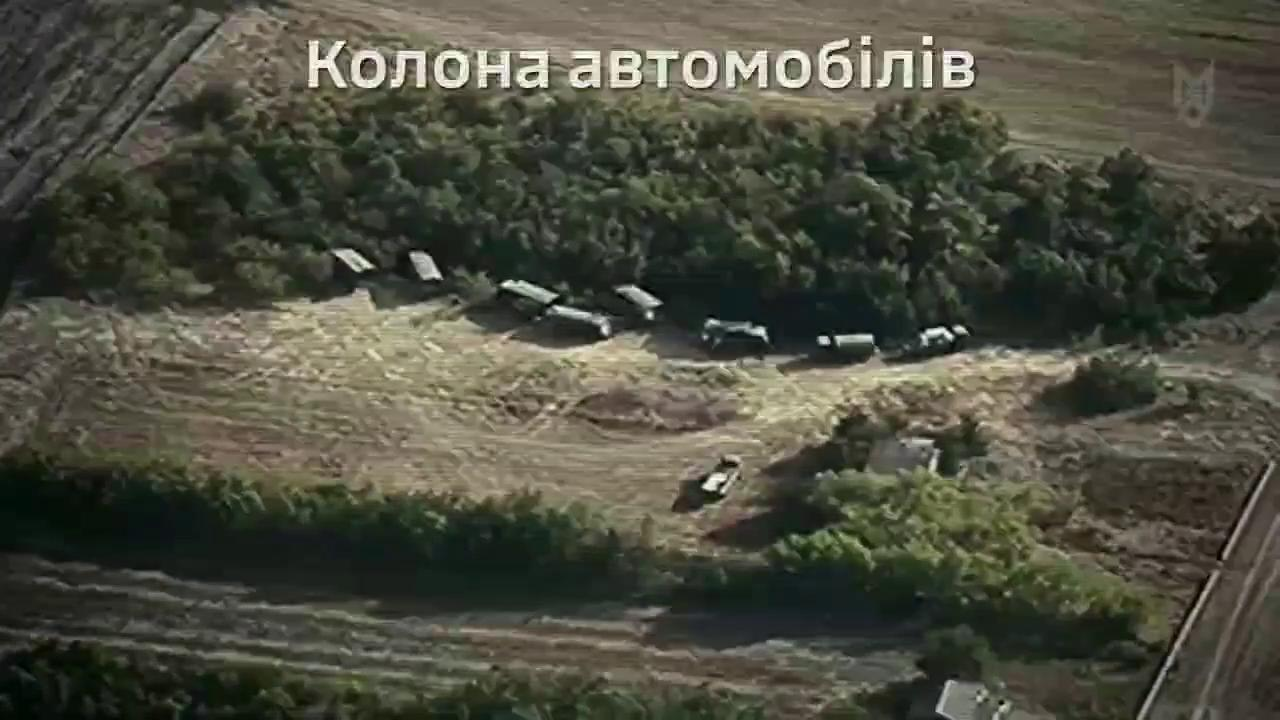tank: (701, 315, 772, 363), (808, 323, 879, 370), (542, 299, 611, 347), (902, 322, 971, 368), (498, 272, 559, 321), (613, 277, 665, 334), (329, 240, 378, 292), (694, 458, 748, 502), (404, 247, 444, 295)
